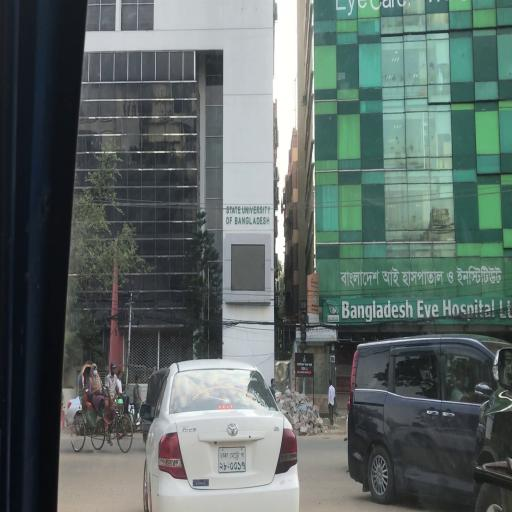car: (141, 362, 300, 512)
minivan: (347, 338, 510, 512)
rickshaw: (72, 361, 134, 453)
three wheelers (CNG): (141, 367, 166, 440)
